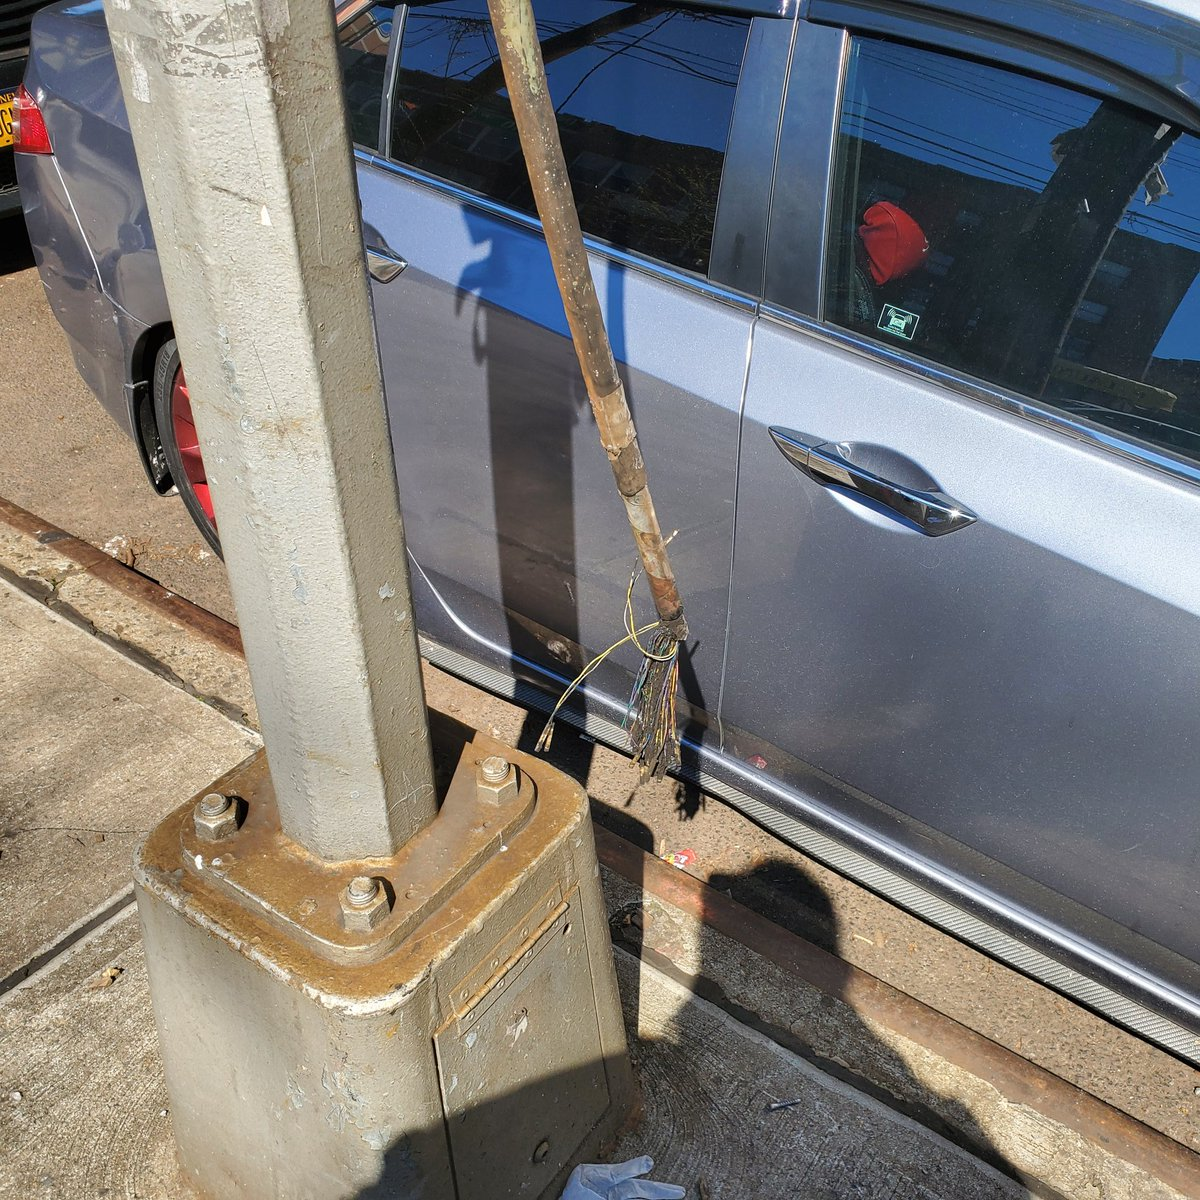car: (44, 3, 1200, 1047)
